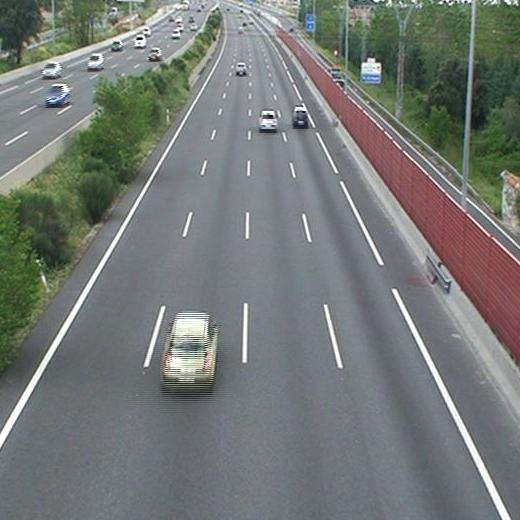car: (161, 313, 216, 387), (259, 111, 278, 130), (293, 106, 308, 127), (235, 62, 246, 75)
